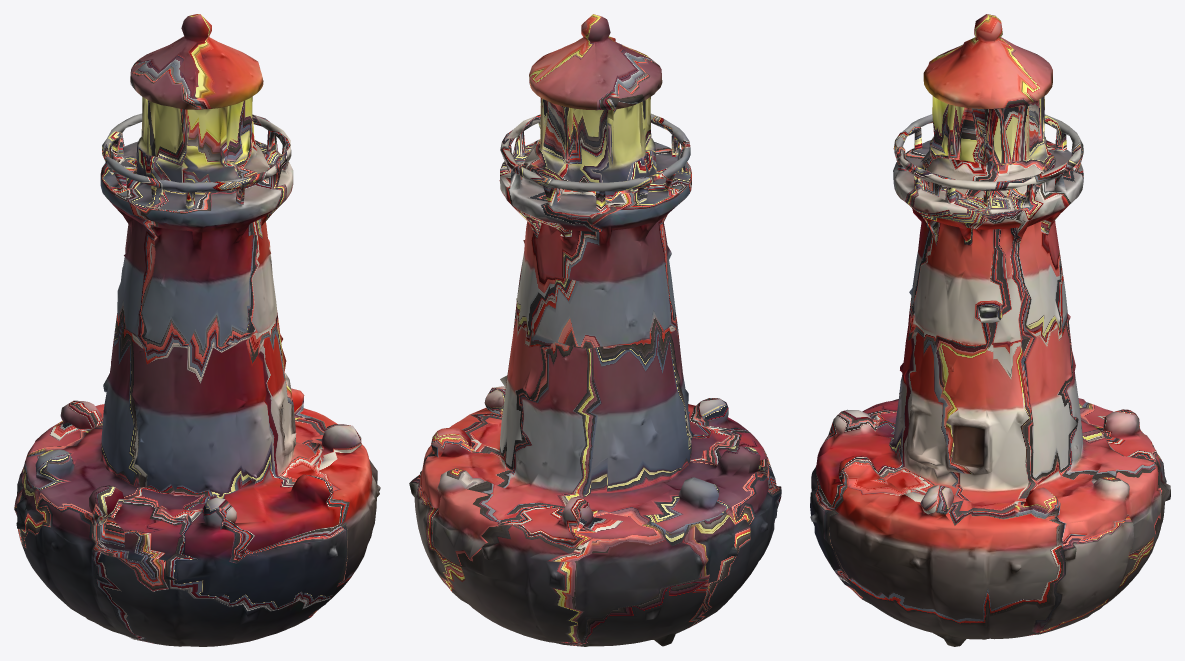
File: buoy.glb
3 views of the same model, side by side, from view 1: azimuth 30°, elevation 25°; view 2: azimuth 150°, elevation 25°; view 3: azimuth 270°, elevation 25° (orthographic).
Visible parts, largest first — view 1: tripo_node_0d3d1cb0-7b9f-4fe4-91e5-95ce2250d516; view 2: tripo_node_0d3d1cb0-7b9f-4fe4-91e5-95ce2250d516; view 3: tripo_node_0d3d1cb0-7b9f-4fe4-91e5-95ce2250d516.
Part boxes in pixels (x1,y1,x2,y2): tripo_node_0d3d1cb0-7b9f-4fe4-91e5-95ce2250d516: [14, 14, 380, 646]; tripo_node_0d3d1cb0-7b9f-4fe4-91e5-95ce2250d516: [409, 14, 781, 646]; tripo_node_0d3d1cb0-7b9f-4fe4-91e5-95ce2250d516: [810, 14, 1170, 646].
Bounding box in the file's own units: 0.5588 × 0.9999 × 0.5545.
1 material, 1 textured.
